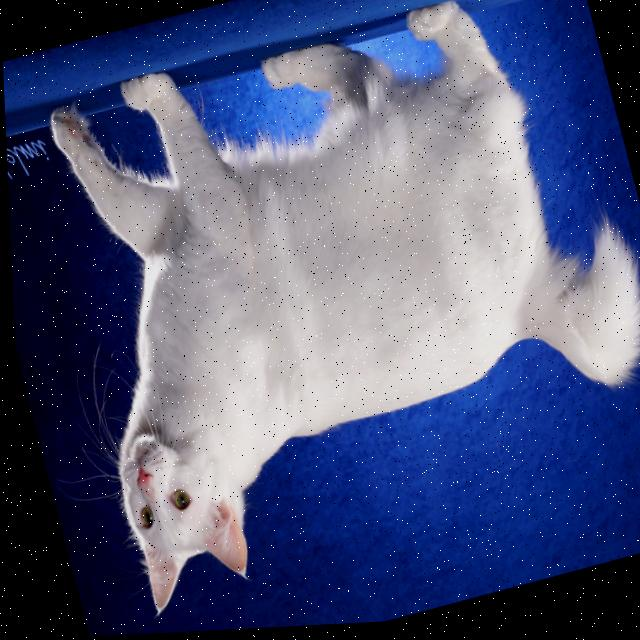American Bobtail: (11, 0, 640, 632)
